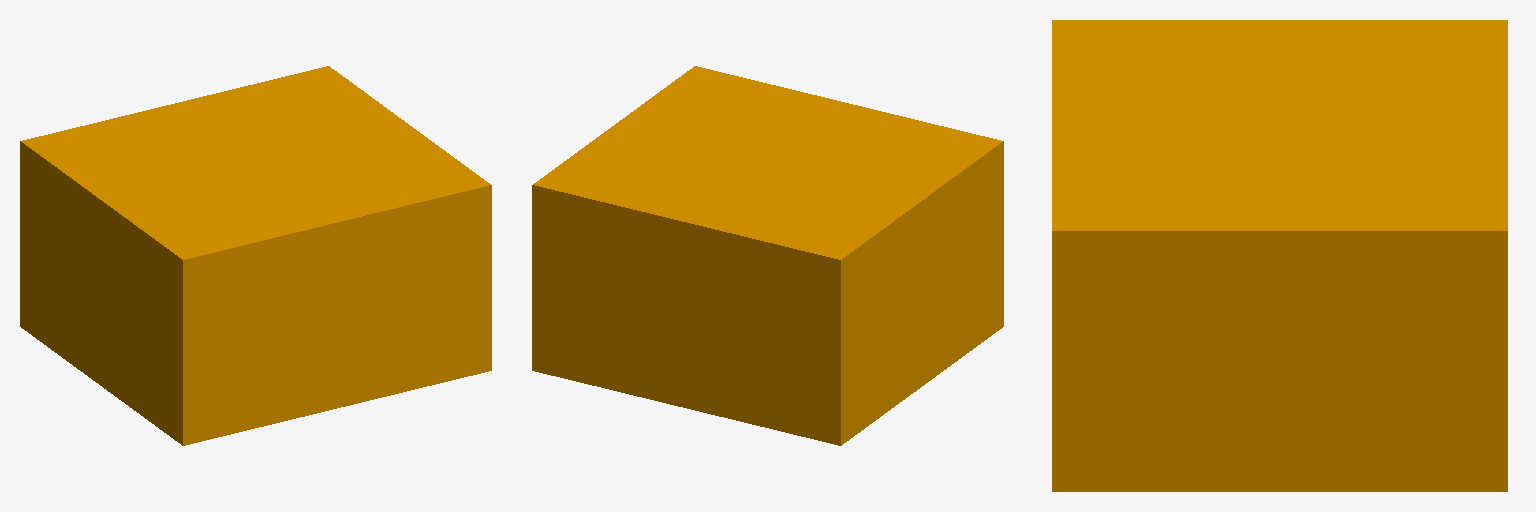
The robot description file, URDF, robot "object":
<?xml version="1.0"?>
<!-- Auto-generated by tools/gen_primitive_objects.py. kind=box dims=(0.08472, 0.07738, 0.048813) -->
<robot name="object">
  <link name="object">
    <visual>
      <origin xyz="0 0 0"/>
      <geometry>
        <box size="0.084720 0.077380 0.048813"/>
      </geometry>
    </visual>
    <collision>
      <origin xyz="0 0 0"/>
      <geometry>
        <box size="0.084720 0.077380 0.048813"/>
      </geometry>
    </collision>
    <inertial>
      <mass value="0.064000"/>
      <inertia ixx="0.00004464" ixy="0.0" ixz="0.0" iyy="0.00005099" iyz="0.0" izz="0.00007021"/>
    </inertial>
  </link>
</robot>

--- What the picture shows (computed from the rendered views, not written in the file) ---
The picture shows the robot from 3 angles, left to right: view 1: azimuth 30°, elevation 25°; view 2: azimuth 150°, elevation 25°; view 3: azimuth 270°, elevation 25°; orthographic projection.
Robot: object — 1 links, 0 joints (none); root link object; default pose: all joints at 0.
Links seen in each view (by area): view 1: object; view 2: object; view 3: object.
Link boxes in pixels (x1,y1,x2,y2): object: (20, 66, 491, 445); object: (532, 66, 1003, 445); object: (1052, 20, 1507, 491).
Size in the robot's own frame: 0.0847 by 0.0774 by 0.0488 metres.
Geometry: primitives only (box / cylinder / sphere), no mesh files.
